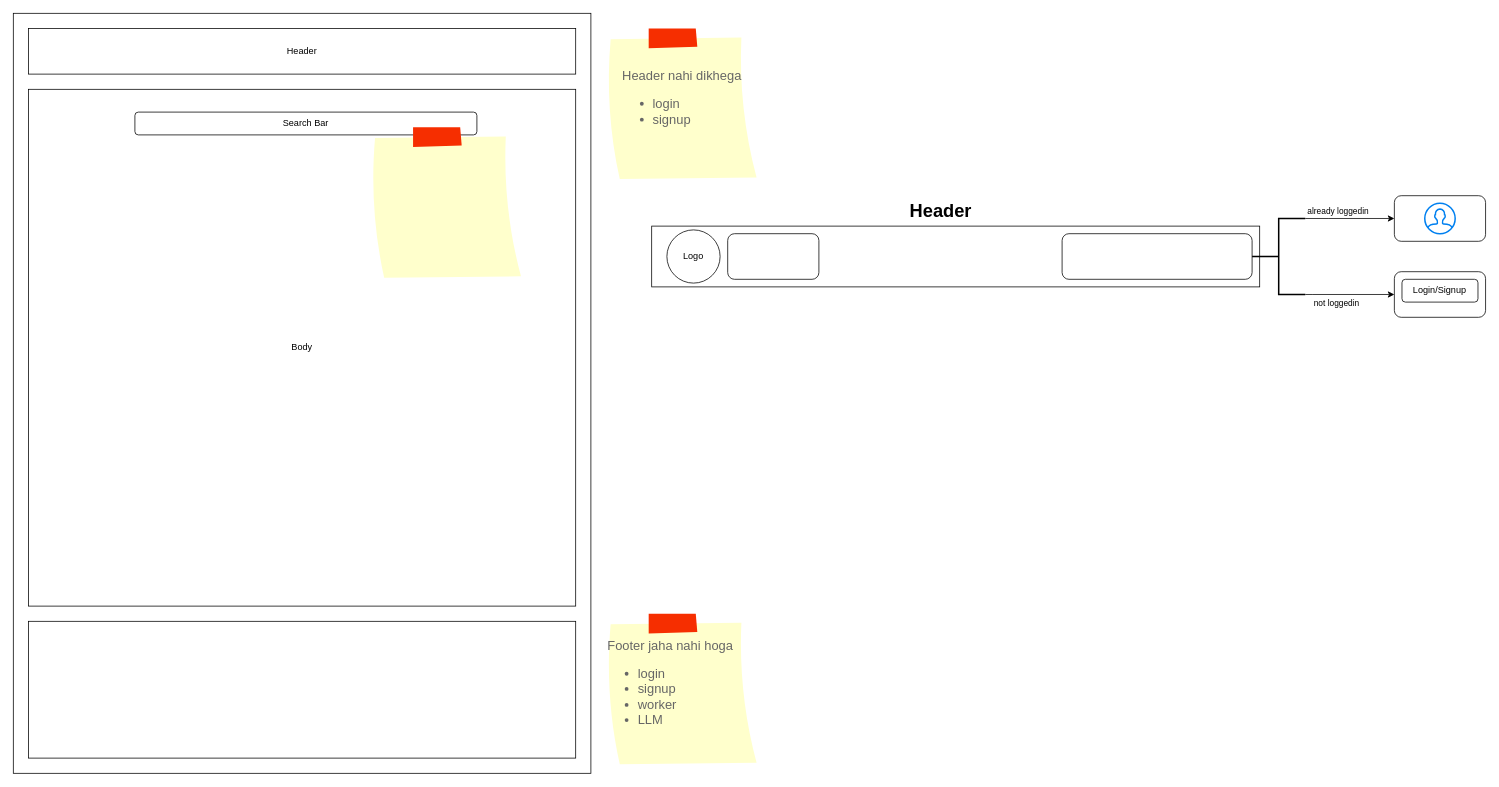
This 1499x787 diagram has some shape labels left out. Each missing label, with the box of its shape:
Footer: (28, 621, 576, 758)
Name: (727, 233, 819, 279)
serch bar ka eak component banega jo worker LLM Command gallery: (370, 127, 522, 279)
user status: (1061, 233, 1252, 279)
